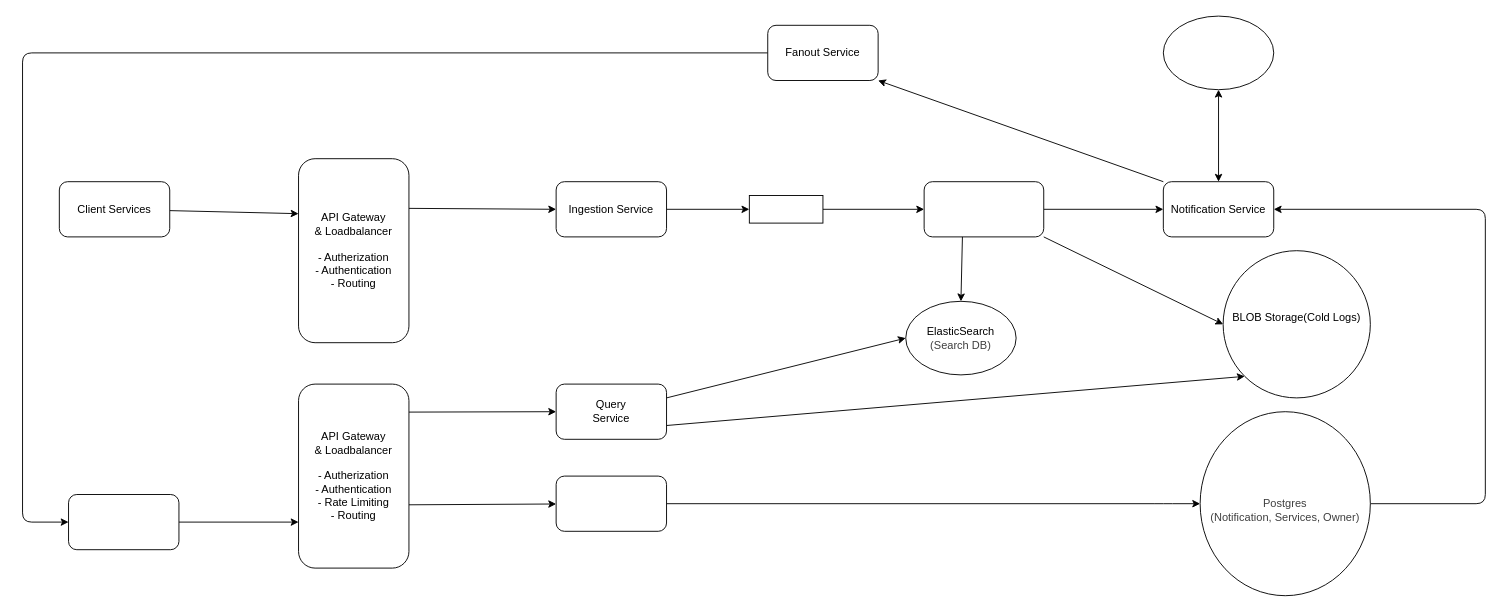
Image size: 1509x612. Some labels were removed from this diagram. The shapes that lost their labels are listed below. From the top down, each one's centre as x and y in pixels, then its label:
point 1218,52: Redis with TTL
point 785,209: Kafka Queue
point 983,209: Processing Service
point 123,522: Client
point 611,503: Registration Service
